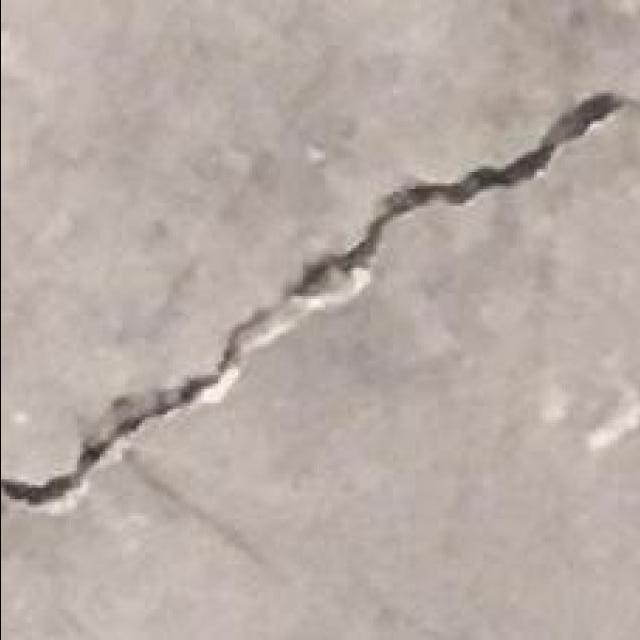crack: (4, 372, 232, 514), (486, 140, 571, 189)
